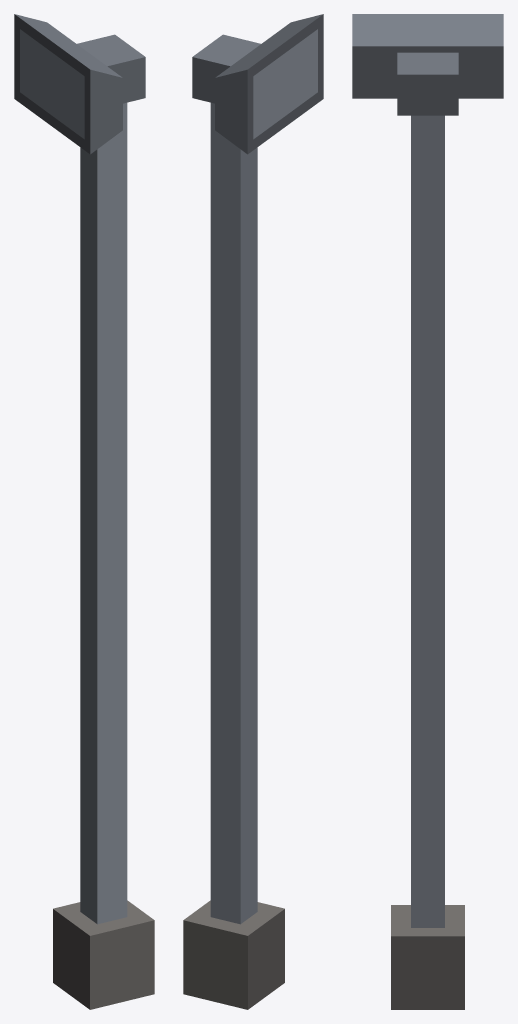
Rendered from SM_Prop_Lightpole_01.fbx.
3 views of the same model, side by side, from view 1: azimuth 30°, elevation 25°; view 2: azimuth 150°, elevation 25°; view 3: azimuth 270°, elevation 25° (orthographic).
Parts seen in each view (by area): view 1: SM_Prop_Lightpole_01; view 2: SM_Prop_Lightpole_01; view 3: SM_Prop_Lightpole_01.
Boxes of the visible parts, x1,y1,x2,y2 form: SM_Prop_Lightpole_01: [14, 14, 154, 1009]; SM_Prop_Lightpole_01: [183, 14, 323, 1009]; SM_Prop_Lightpole_01: [352, 14, 503, 1009].
Bounding box in the file's own units: 1.03 × 11.29 × 1.62.
